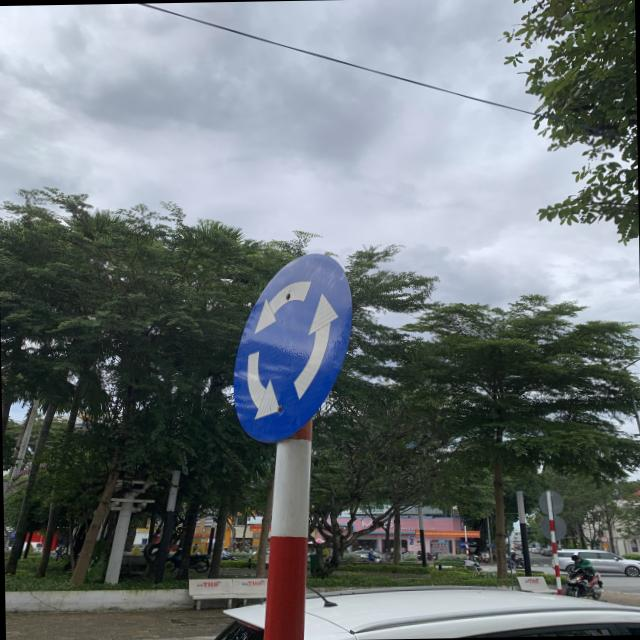Xe_Bus: (228, 252, 354, 444)
